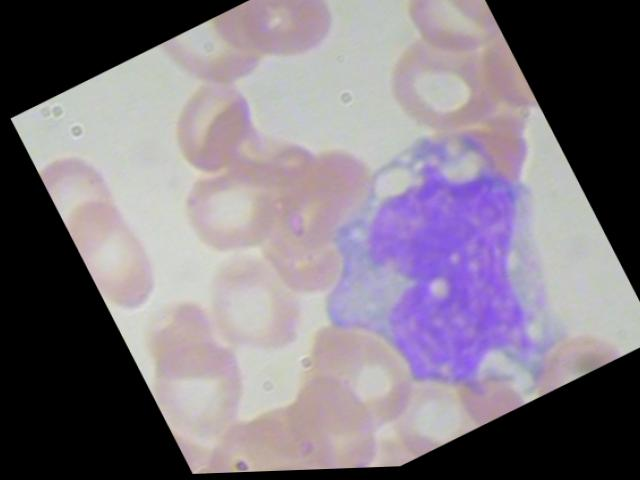Red Blood Cells: (188, 235, 323, 378), (55, 180, 174, 330), (149, 0, 286, 114), (150, 64, 273, 181), (30, 136, 133, 259), (275, 361, 387, 471), (504, 319, 623, 405), (231, 0, 349, 78), (224, 446, 331, 473)
White Blood Cells: (261, 109, 617, 466)
